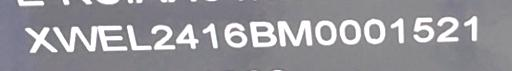letter: (53, 23, 99, 52), (274, 17, 314, 48), (24, 24, 56, 53), (246, 19, 276, 48), (220, 21, 248, 50), (97, 24, 127, 51), (174, 23, 200, 54), (410, 16, 436, 43), (362, 18, 388, 45), (125, 25, 151, 52), (436, 15, 460, 44), (314, 18, 338, 47), (150, 25, 176, 50), (337, 18, 361, 45), (388, 17, 408, 46), (200, 22, 220, 51), (459, 16, 481, 41)
